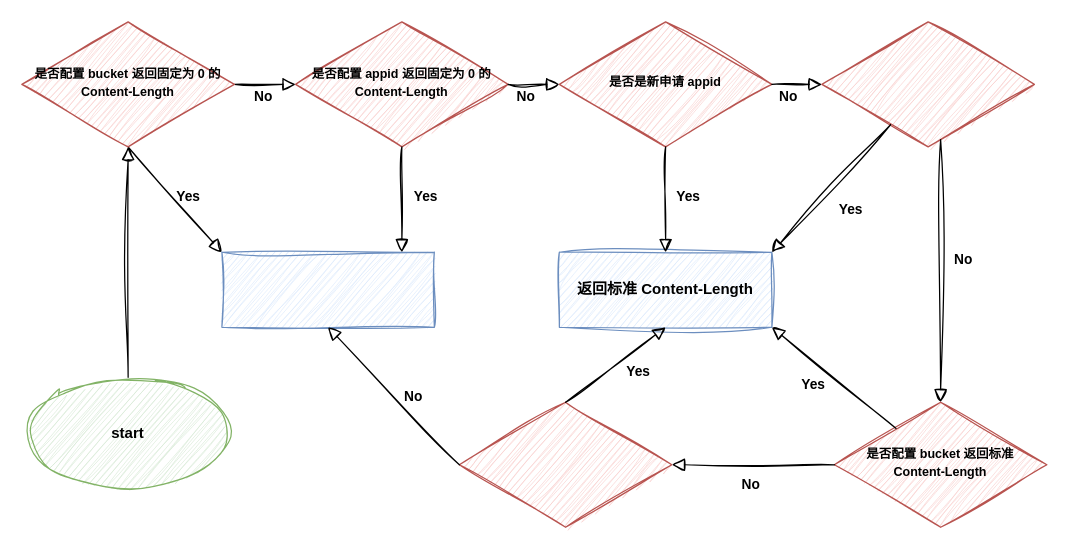
Image size: 1069x550. Some labels were removed from this diagram. The shapes that lost their labels are listed below. From the top down, each one's centre as x and y in pixels, then its label:
At pixel 927 84: "是否来自 CDN 请求".
At pixel 327 289: "返回 Content-Length: 0".
At pixel 565 464: "是否配置 appid 返回标准 Content-Length".
